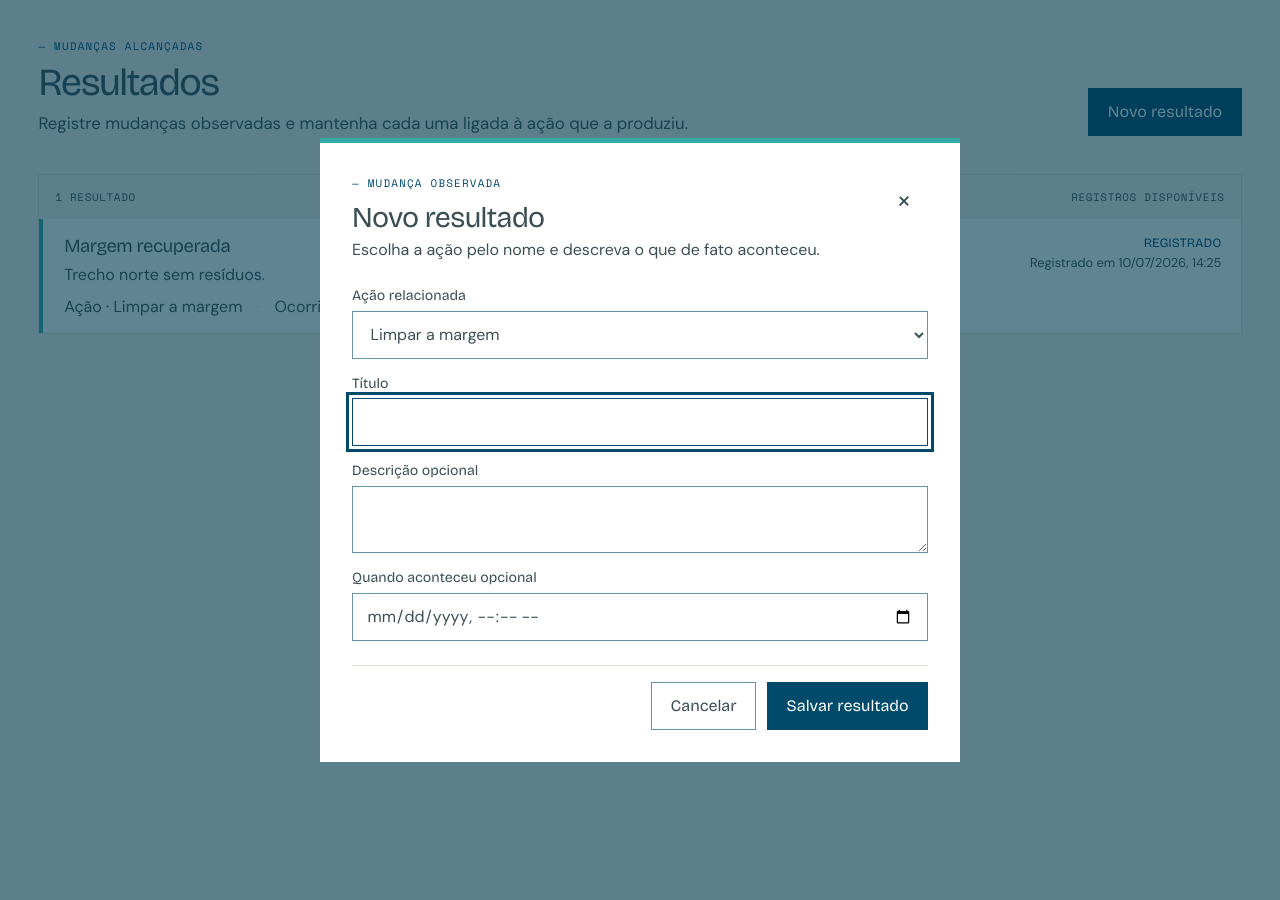
ResultadosPage › renders the action by name and opens a Rastro link with that action selected
Expected: the dialog "Novo resultado" is shown, [320, 138, 960, 762]
Expected: the dropdown labelled "Ação relacionada" shows "Limpar a margem", [352, 311, 928, 359]
Type "Margem recuperada" into the field labelled "Título" at [640, 422], box [352, 398, 928, 446]
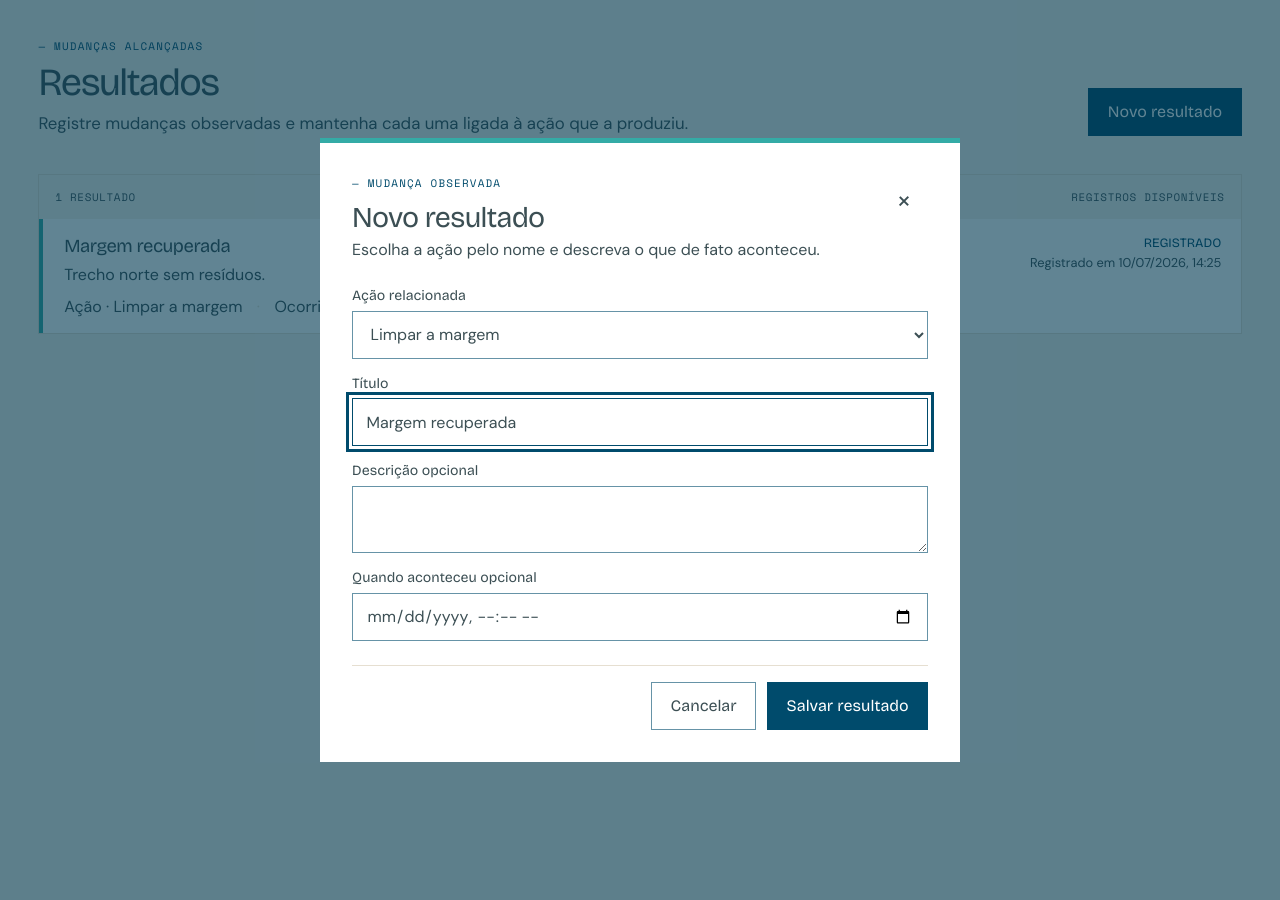
Click the button "Salvar resultado" at [848, 706], box [767, 682, 928, 730]
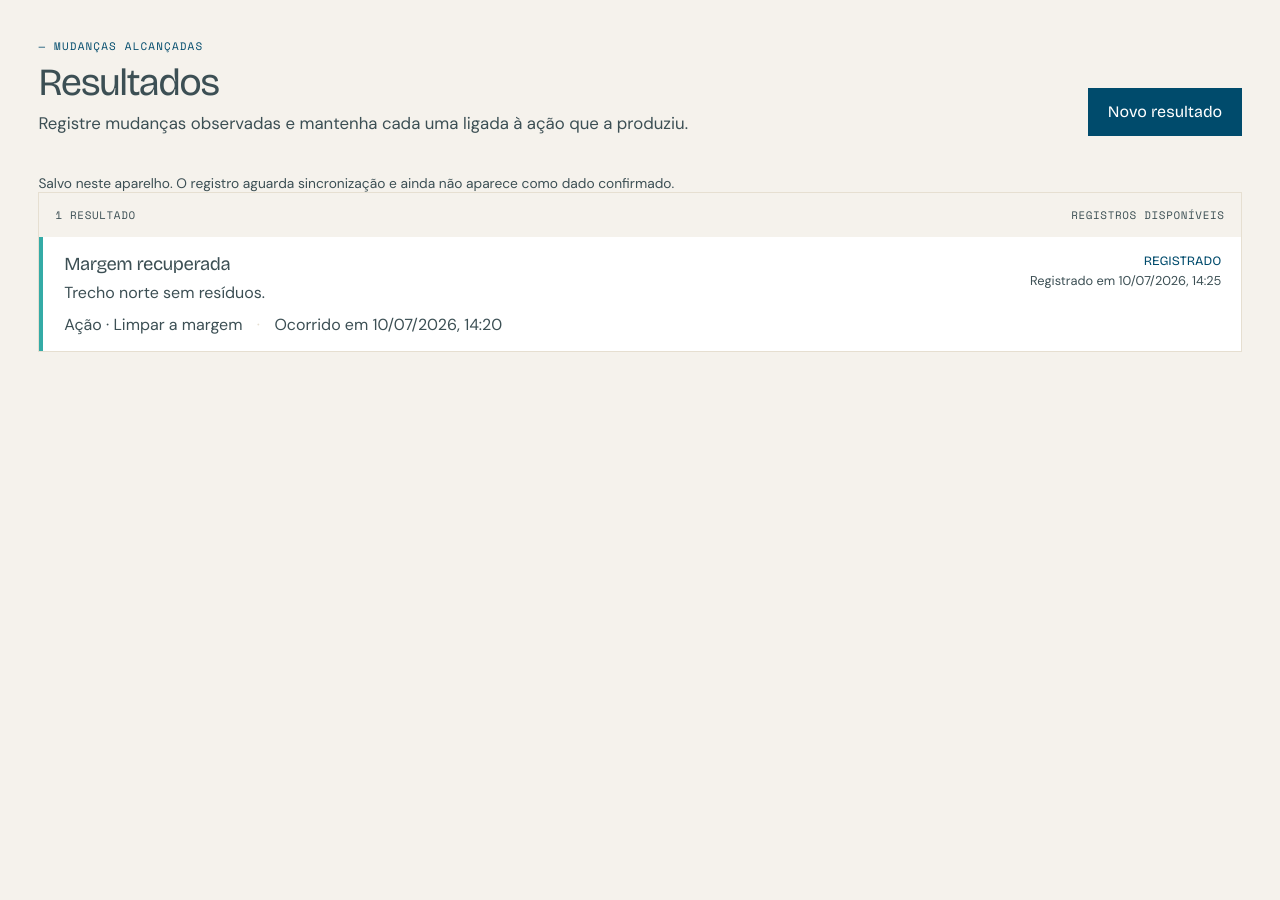
Now the message shows "Salvo neste aparelho", box [38, 174, 674, 192]
